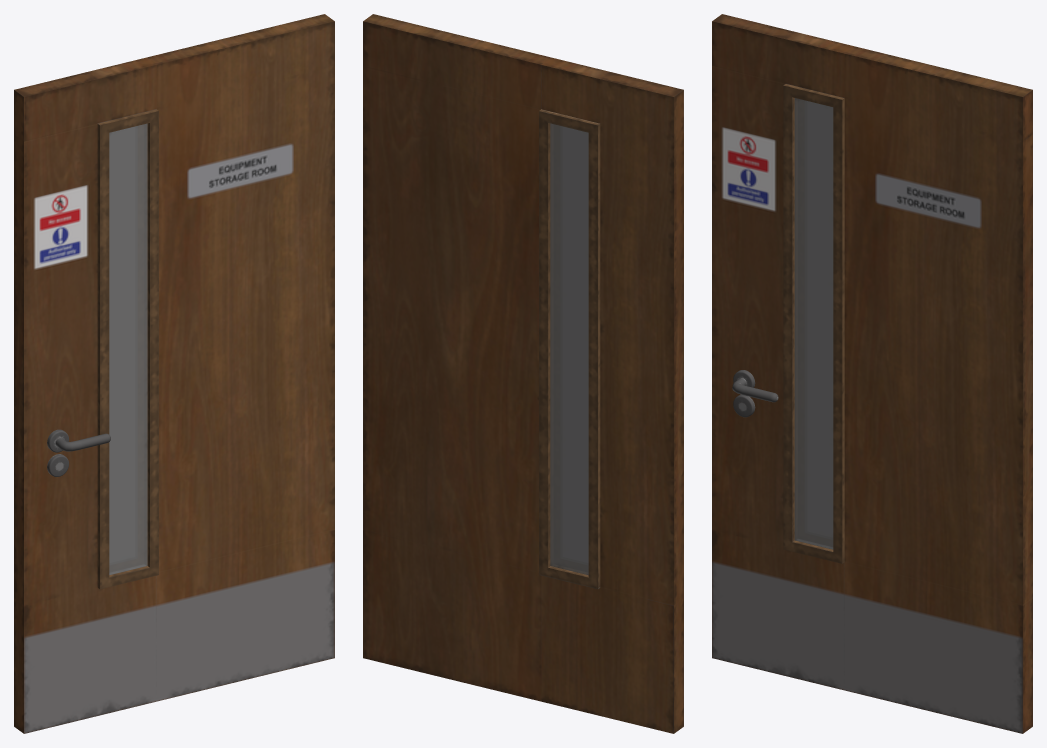
Rendered from office_door_b.glb.
3 views of the same model, side by side, from view 1: azimuth 30°, elevation 25°; view 2: azimuth 150°, elevation 25°; view 3: azimuth 330°, elevation 25° (orthographic).
Parts seen in each view (by area): view 1: SM_meeting_room_door.002_5, SM_door_handle.005_4; view 2: SM_meeting_room_door.002_5; view 3: SM_meeting_room_door.002_5, SM_door_handle.005_4.
Boxes of the visible parts, box(x1,y1,x2,y2) form: SM_meeting_room_door.002_5: box(14, 14, 334, 733); SM_door_handle.005_4: box(47, 429, 110, 452); SM_meeting_room_door.002_5: box(363, 14, 683, 733); SM_meeting_room_door.002_5: box(712, 14, 1032, 733); SM_door_handle.005_4: box(732, 370, 778, 402).
Size of the model in its own units: 1.2 by 2.35 by 0.1677.
Materials: 2 (2 with a texture image).
